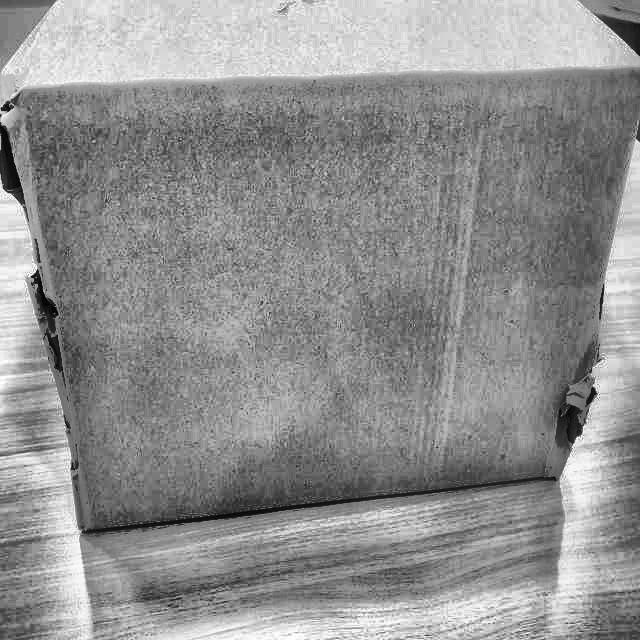box: (0, 0, 639, 543)
hole: (538, 365, 602, 450), (0, 92, 28, 200)
